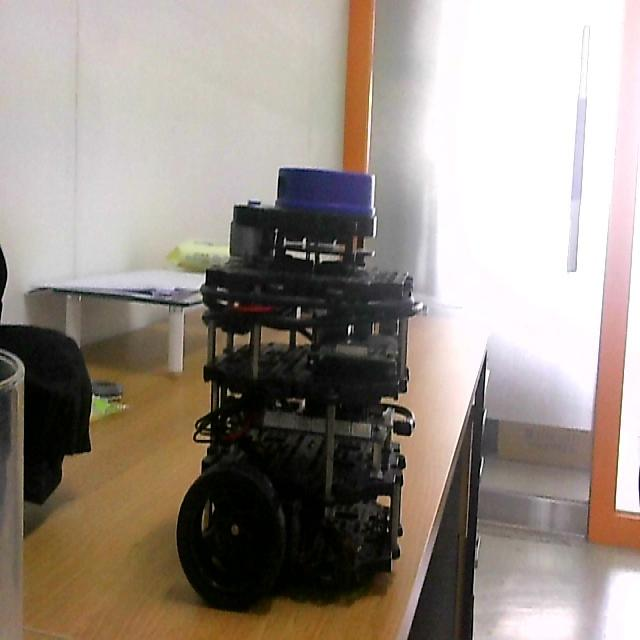turtle: (174, 163, 428, 612)
